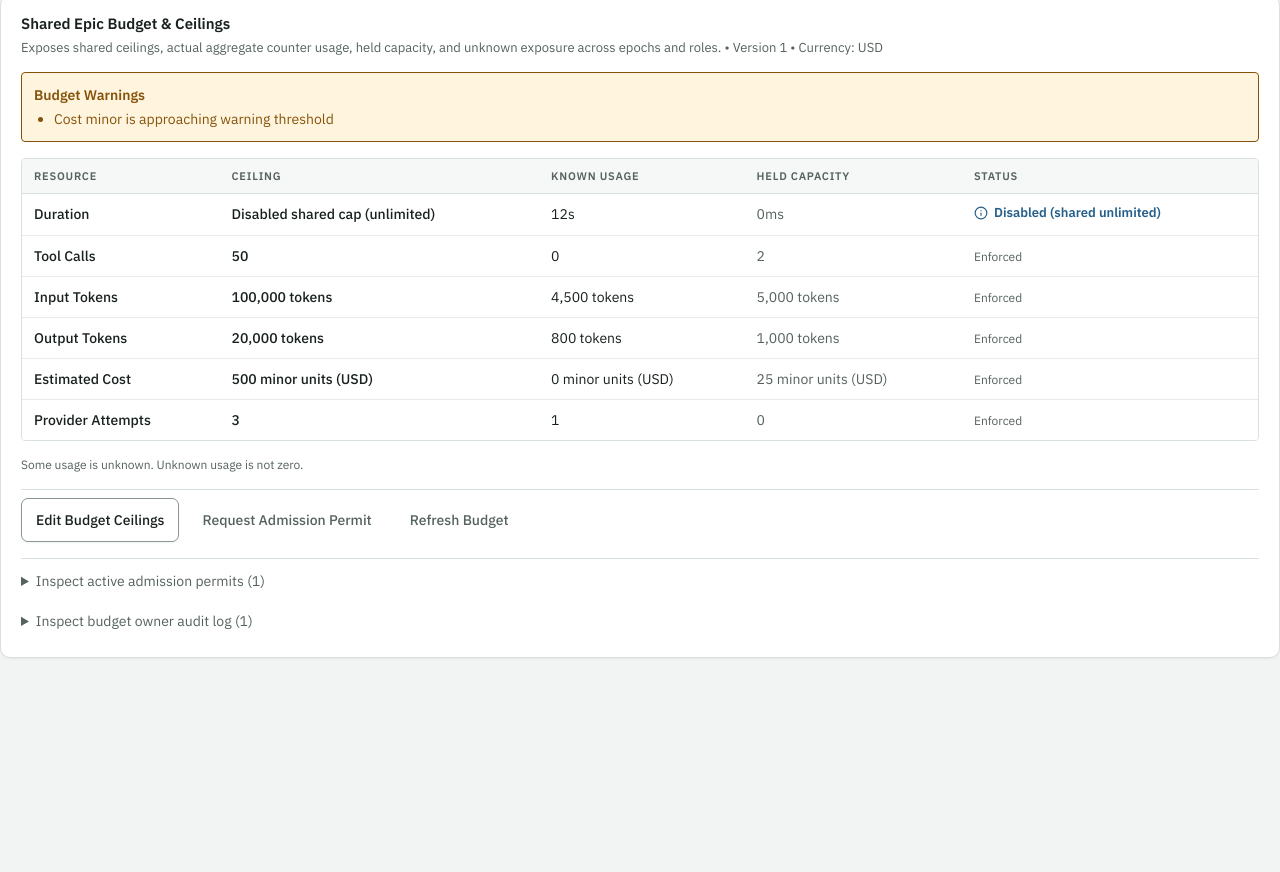
it: EpicBudgetPanel › preserves touched signed-64 ceiling drafts across conflict rebasing while updating untouched fields
Check: the heading "Shared Epic Budget & Ceilings" is shown, box [21, 14, 230, 33]
// Open editor at version 1
Click the button "Edit Budget Ceilings".
click(100, 520)  # box [21, 498, 180, 542]
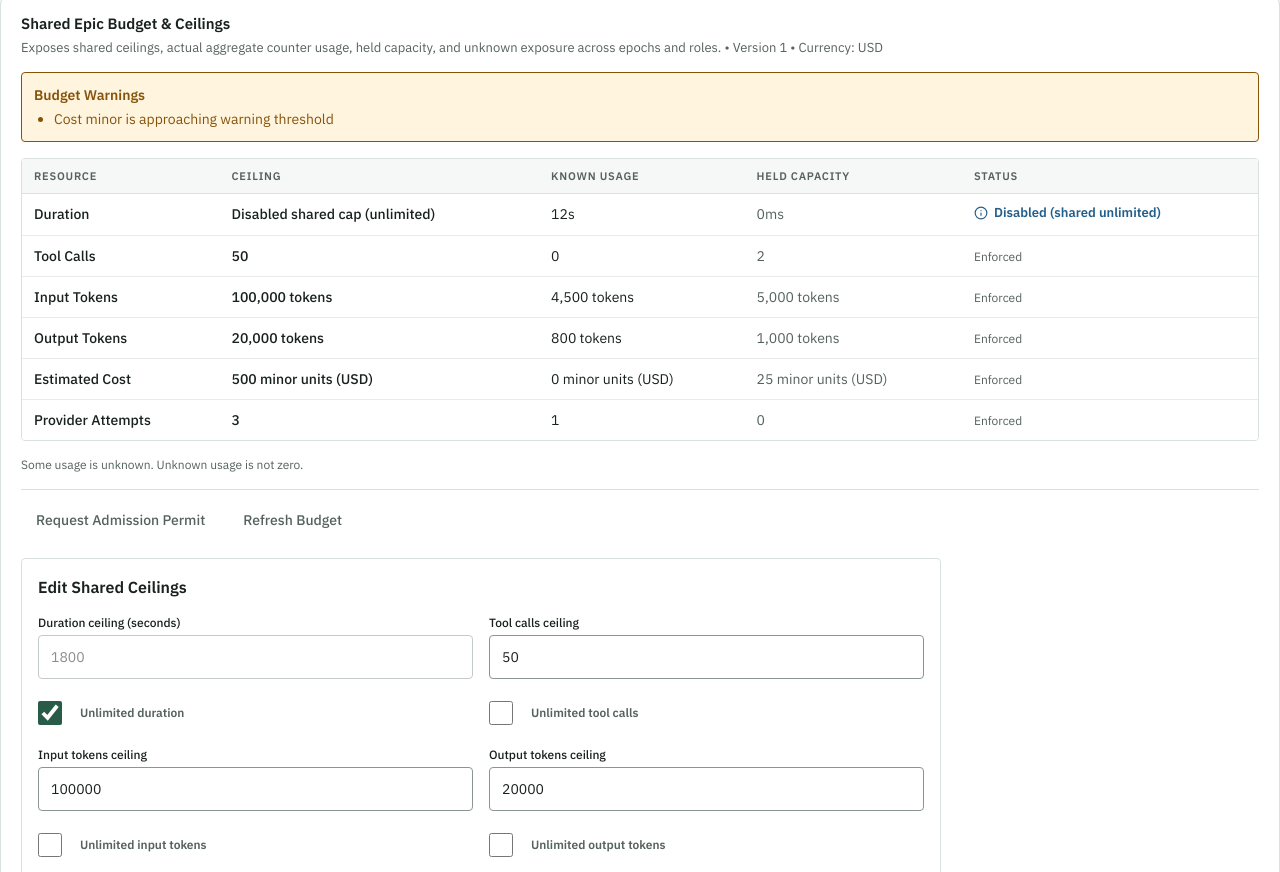
// Touch input tokens ceiling with INT64_MAX
Replace the text in the field labelled "Input tokens ceiling" with "9223372036854775807" at [256, 789], box [38, 767, 473, 811]
(page scrolled)
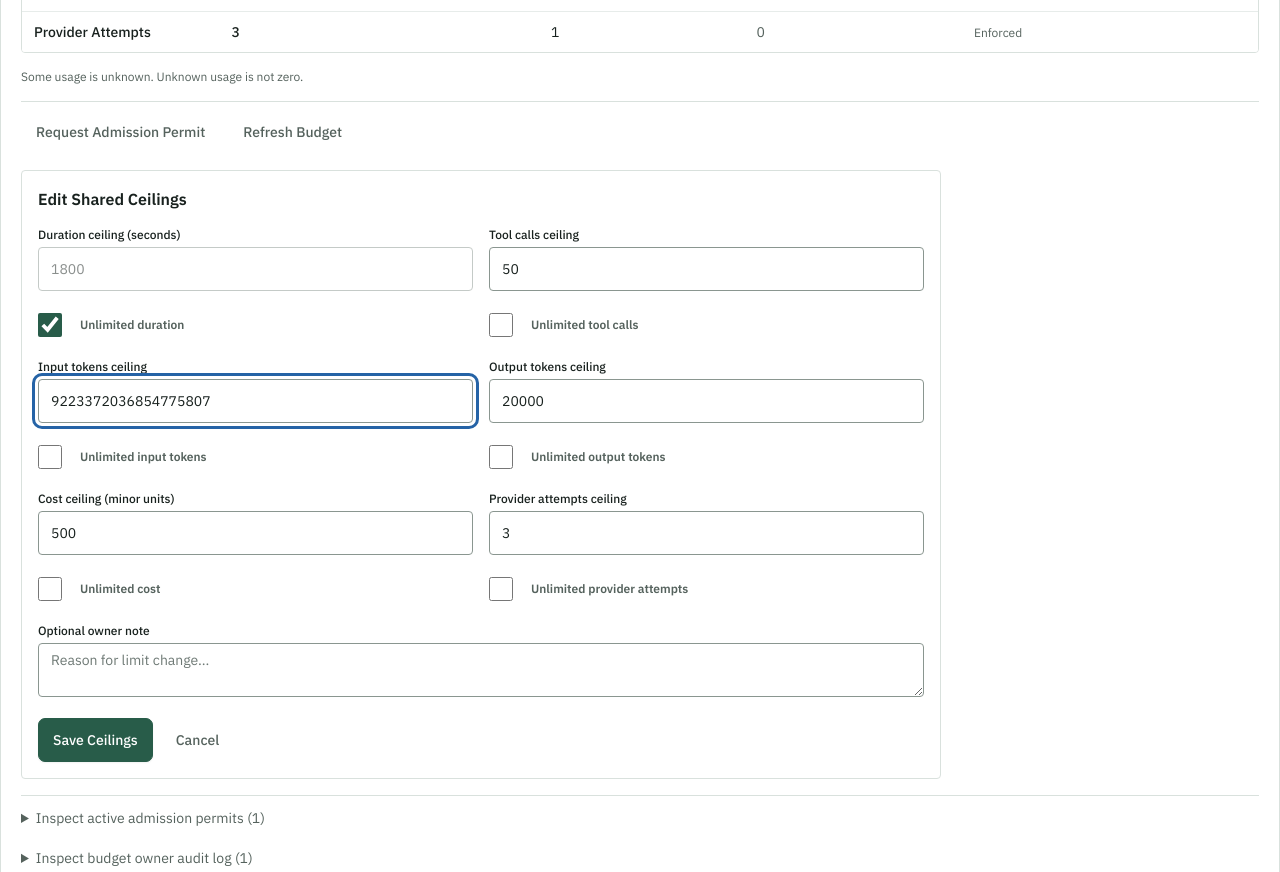
// Attempt to save ceilings with stale expected_version 1
Click the button "Save Ceilings".
click(95, 740)  # box [38, 718, 153, 762]
(page scrolled)
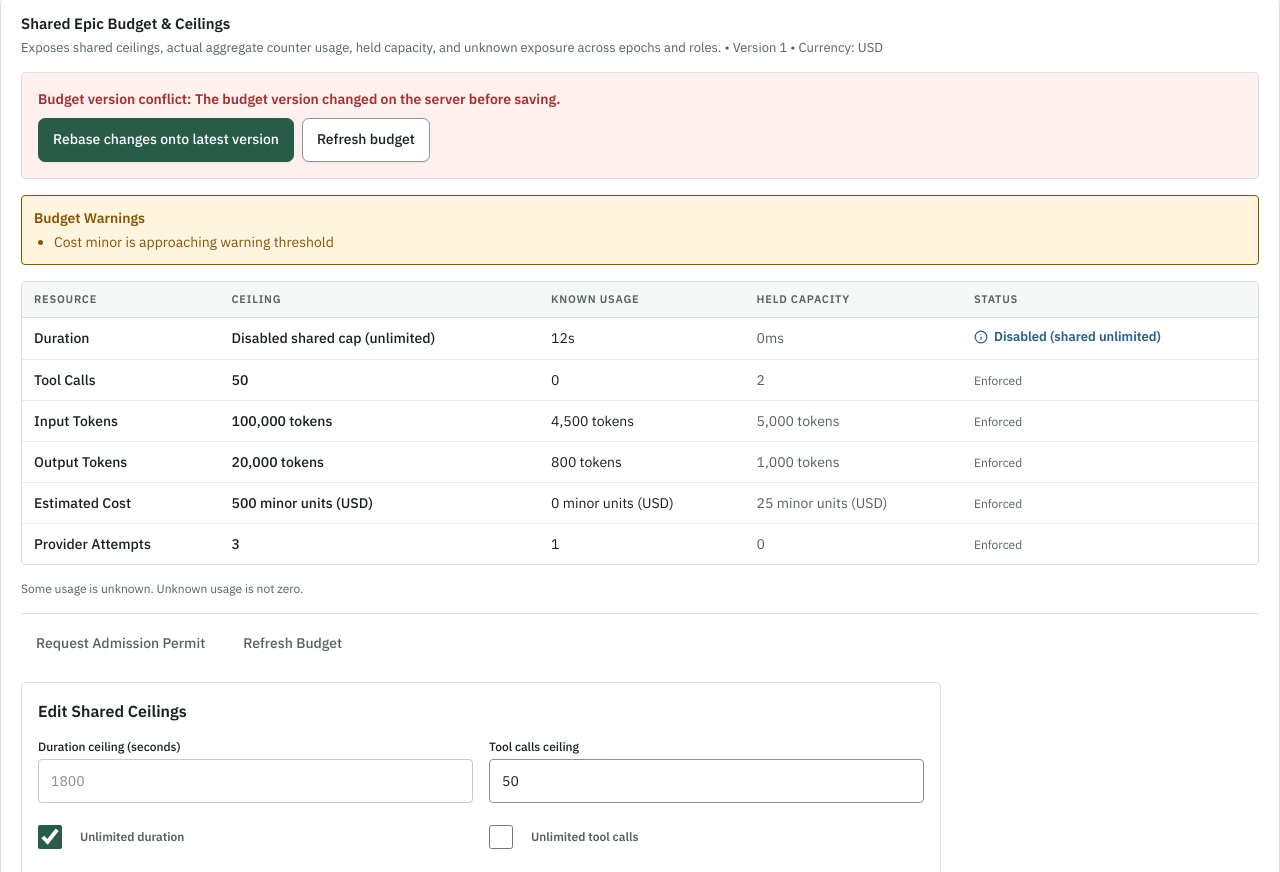
Check: the text "Budget version conflict" is shown, box [38, 90, 560, 108]
// Rebase against latest
Click the button "Rebase changes onto latest version".
click(166, 140)  # box [38, 118, 294, 162]
(page scrolled)
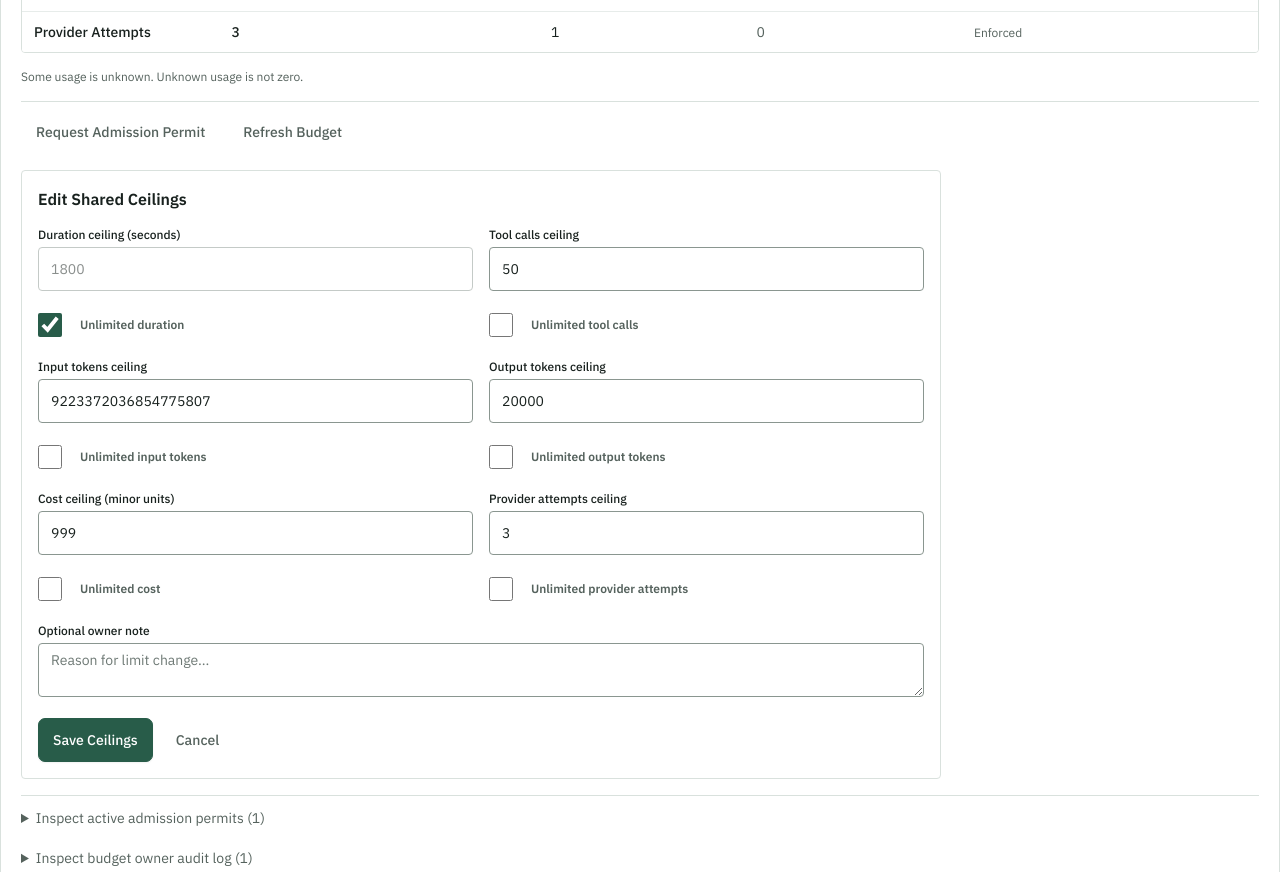
Check: the field labelled "Cost ceiling (minor units)" holds "999", box [38, 511, 473, 555]
// Now save ceilings successfully with updated version 2
Click the button "Save Ceilings".
click(95, 740)  # box [38, 718, 153, 762]
(page scrolled)
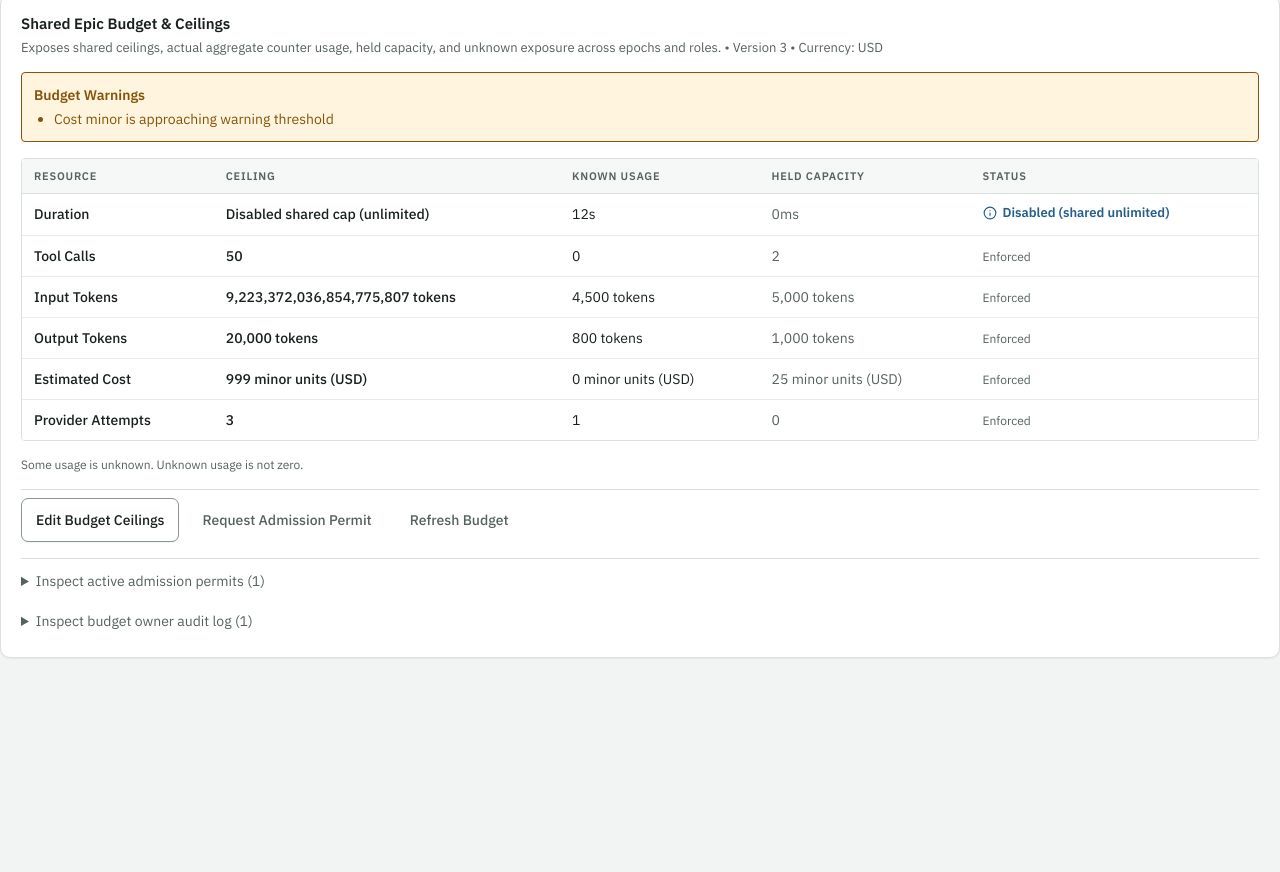
Check: the cell with test id "ceiling-input_tokens" reads "9,223,372,036,854,775,807 tokens", box [226, 288, 456, 306]
